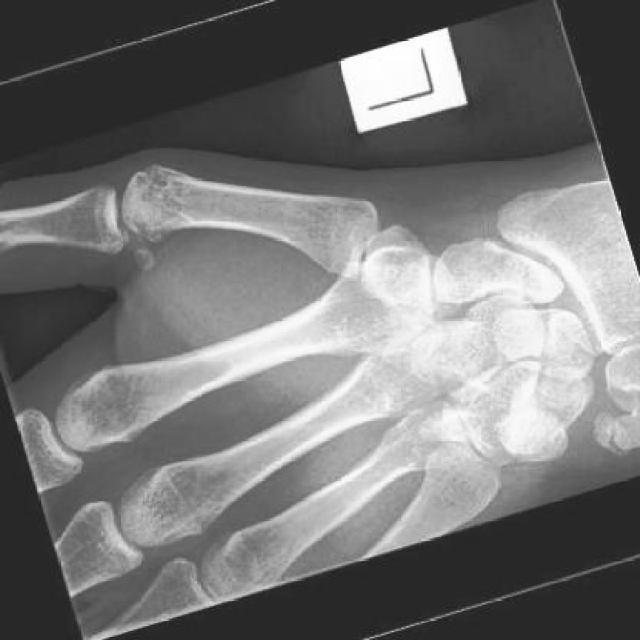Fracture: (481, 223, 554, 314)
